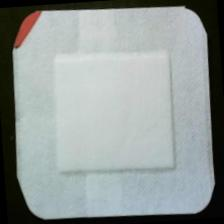Dressing: (3, 1, 224, 224)
Red_T: (7, 7, 54, 56)
